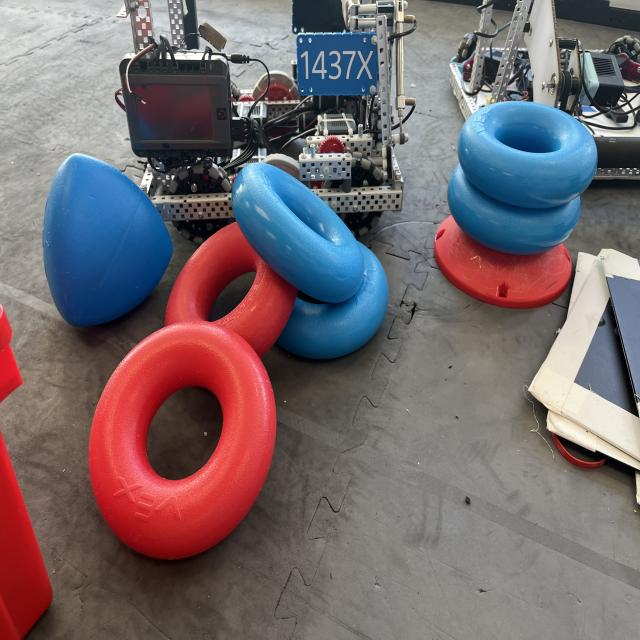Blue-Ring: (231, 163, 364, 303), (458, 102, 598, 208), (276, 243, 389, 360), (448, 163, 580, 255)
Red-Ring: (89, 322, 276, 558), (165, 223, 298, 357)
